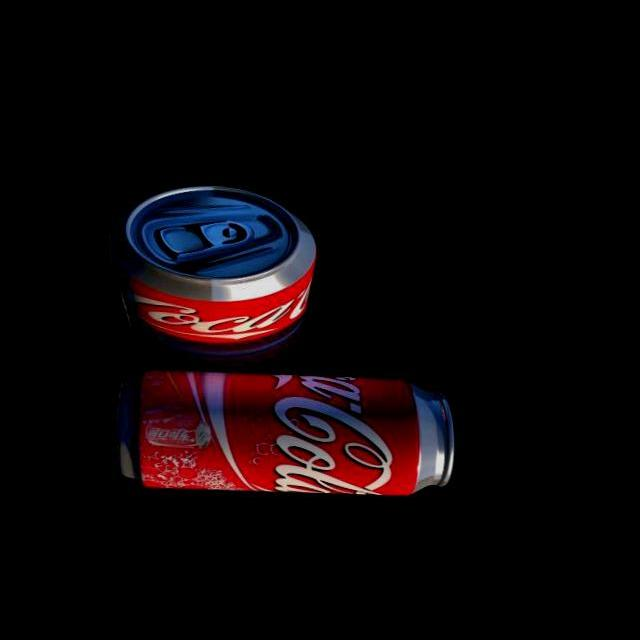Aluminum Can: (104, 358, 465, 506), (118, 180, 324, 383)
